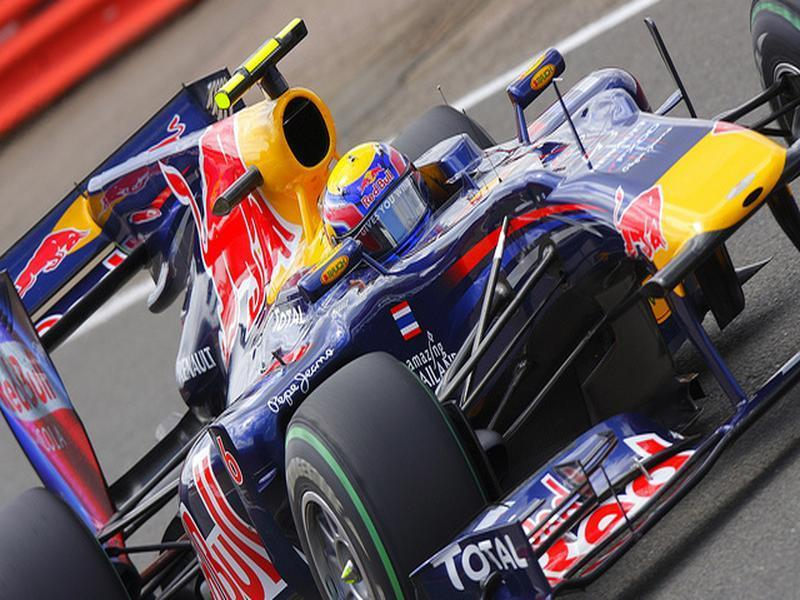f1: (5, 77, 797, 600)
